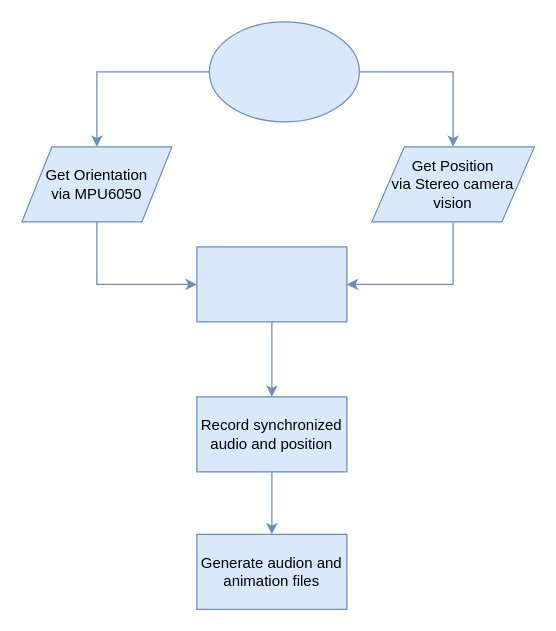
Some shapes in this 556 by 631 pixel diagram are drawn without their labels. Each missing label, with the centre of its shape:
"Determine exact location of marker" belongs at pixel 271 284.
"Start" belongs at pixel 283 71.
